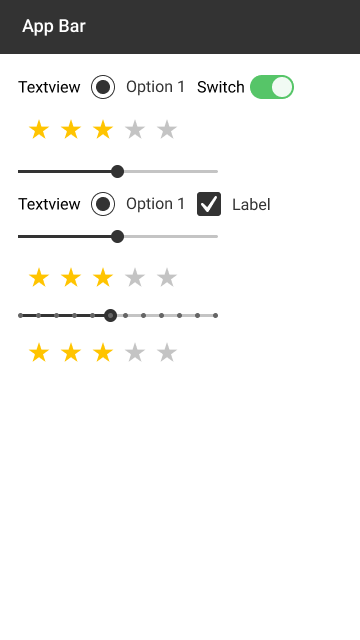checkBox: (195, 189, 273, 219)
radioButton: (88, 190, 185, 217), (89, 73, 185, 100)
ratingBar: (25, 338, 178, 368), (25, 117, 182, 143), (26, 266, 180, 290)
slider: (14, 306, 222, 325)
slider1: (15, 227, 223, 246), (14, 163, 221, 180)
switch: (195, 74, 295, 100)
textView: (16, 78, 82, 99), (16, 195, 82, 213)
toolbar: (2, 1, 360, 56)
